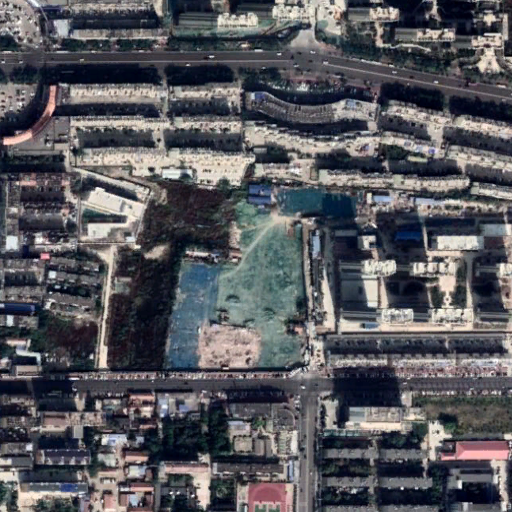cw: (164, 198, 310, 376), (283, 188, 358, 221)
